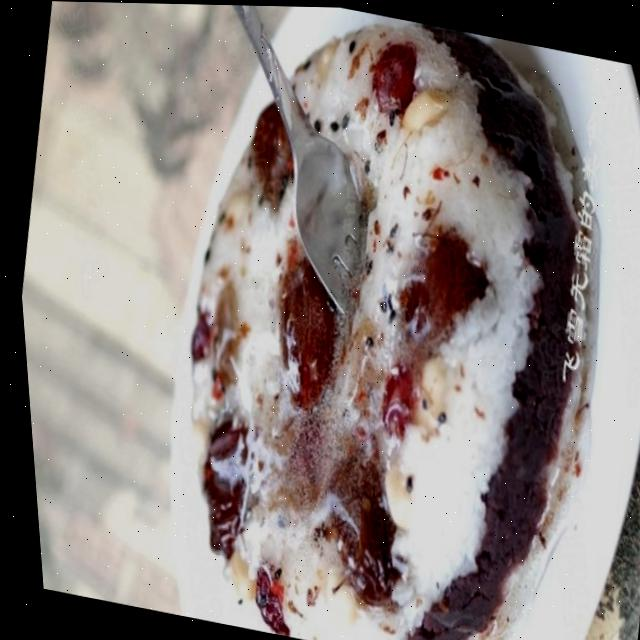米饭主食: (90, 2, 640, 640)
